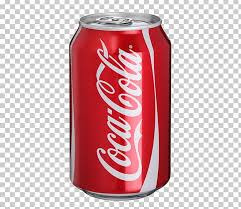coke: (68, 14, 170, 197)
